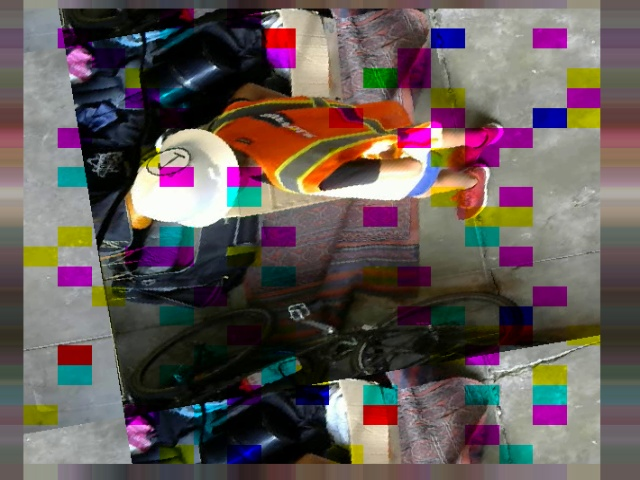one: (145, 145, 190, 178)
